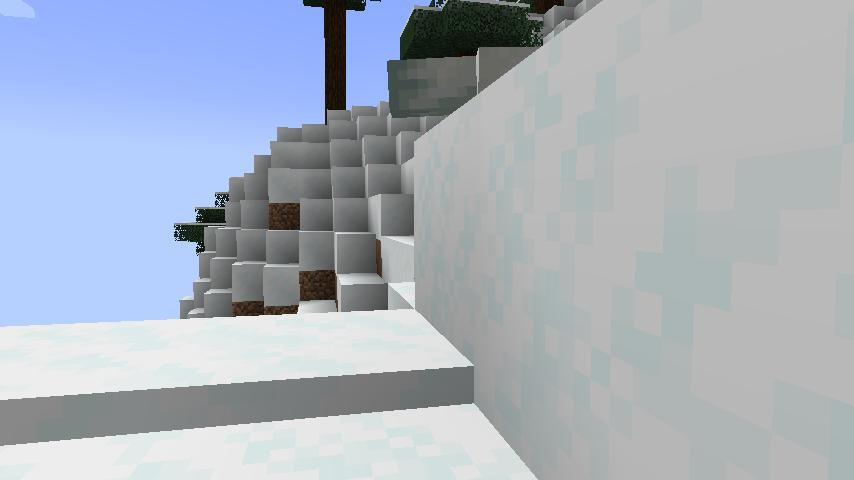fox: (385, 44, 544, 120)
